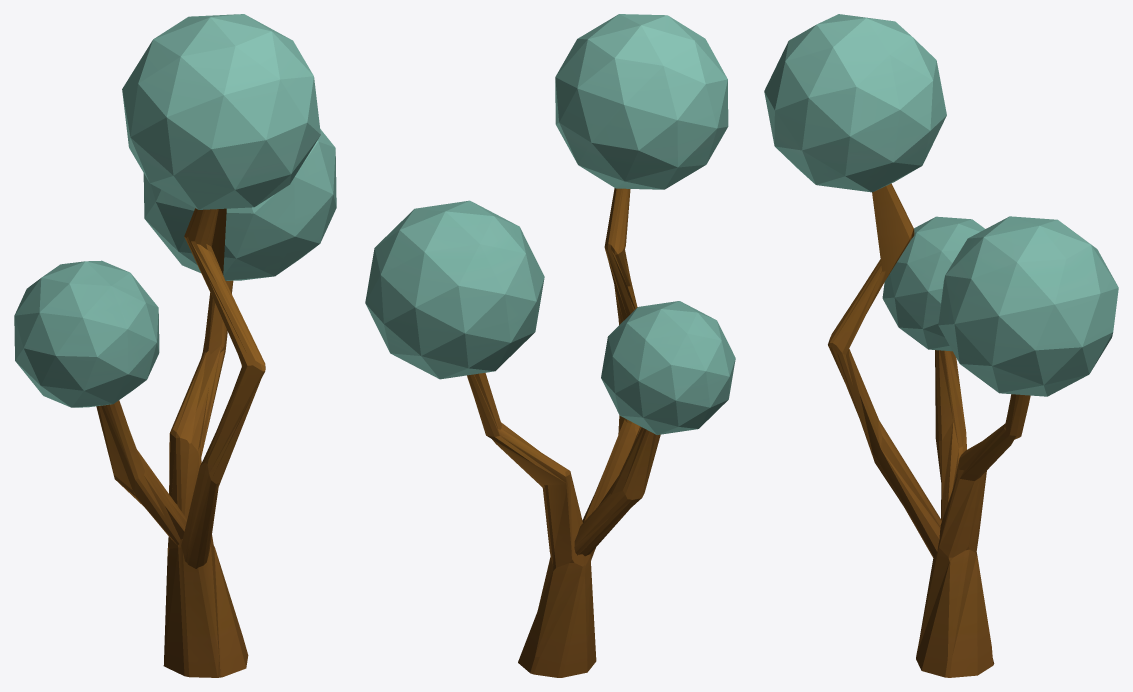
File: tree_trio.glb
3 views of the same model, side by side, from view 1: azimuth 30°, elevation 25°; view 2: azimuth 150°, elevation 25°; view 3: azimuth 270°, elevation 25° (orthographic). The views are drawn at different scales.
Visible parts, largest first — view 1: Poplar Tree_3_AA; view 2: Poplar Tree_3_AA; view 3: Poplar Tree_3_AA.
Boxes of the visible parts, left/top/right/bottom form: Poplar Tree_3_AA: left=14, top=14, right=336, bottom=677; Poplar Tree_3_AA: left=365, top=14, right=735, bottom=677; Poplar Tree_3_AA: left=764, top=14, right=1118, bottom=677.
Size of the model in its own units: 1.91 by 3.6 by 1.86.
Materials: 1 (1 with a texture image).
